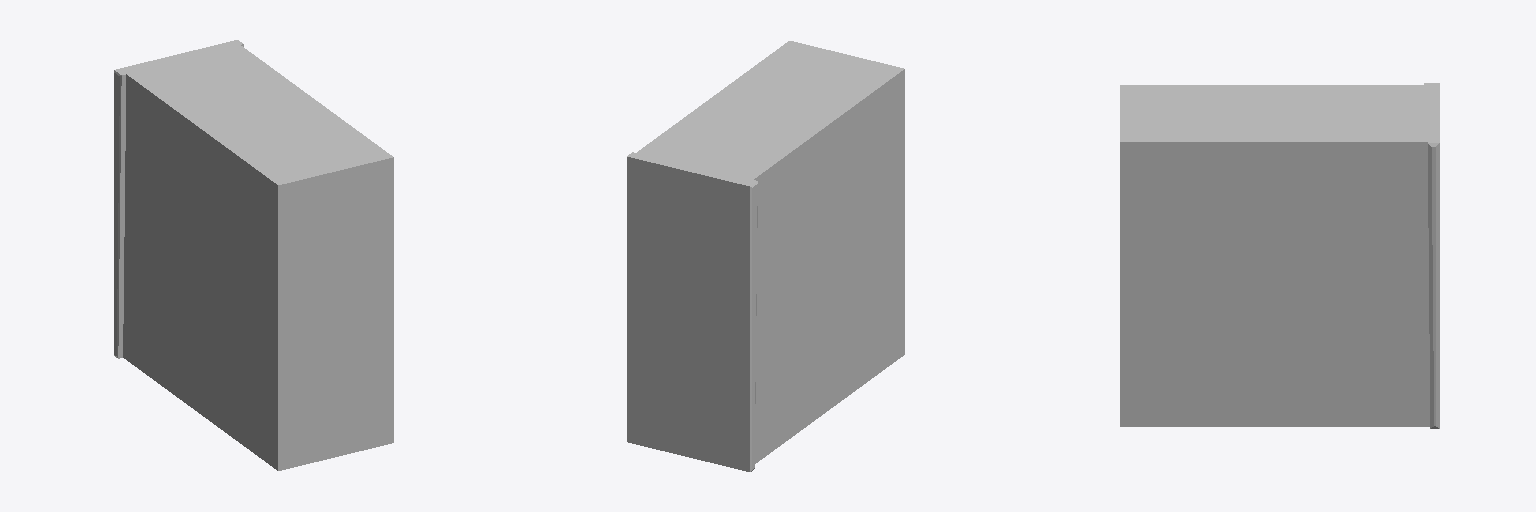
File: wall_lad.obj
The picture shows the model from 3 angles: view 1: azimuth 30°, elevation 25°; view 2: azimuth 150°, elevation 25°; view 3: azimuth 270°, elevation 25°; orthographic projection.
Parts seen in each view (by area): view 1: Cube.001_Cube.003; view 2: Cube.001_Cube.003; view 3: Cube.001_Cube.003.
Boxes of the visible parts, <box> form: Cube.001_Cube.003: <box>114,40,393,470</box>; Cube.001_Cube.003: <box>627,41,904,471</box>; Cube.001_Cube.003: <box>1120,83,1439,428</box>.
Size of the model in its own units: 1.46 by 3.17 by 3.21.